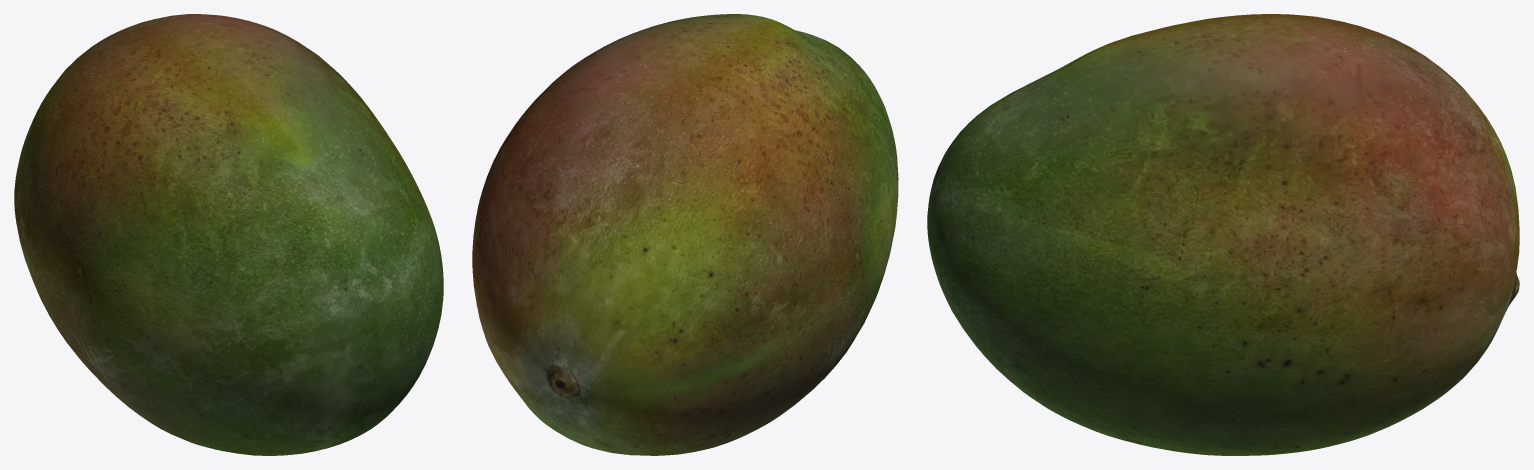
File: mango.glb
The picture shows the model from 3 angles, left to right: view 1: azimuth 30°, elevation 25°; view 2: azimuth 150°, elevation 25°; view 3: azimuth 270°, elevation 25°; orthographic projection. The views are drawn at different scales.
Parts seen in each view (by area): view 1: Mango_LowPoly_1; view 2: Mango_LowPoly_1; view 3: Mango_LowPoly_1.
Part boxes in pixels (bbox=[...]): Mango_LowPoly_1: bbox=[14, 14, 443, 455]; Mango_LowPoly_1: bbox=[472, 14, 898, 455]; Mango_LowPoly_1: bbox=[927, 14, 1519, 455].
Size of the model in its own units: 0.0809 by 0.0917 by 0.121.
Materials: 1 (1 with a texture image).
